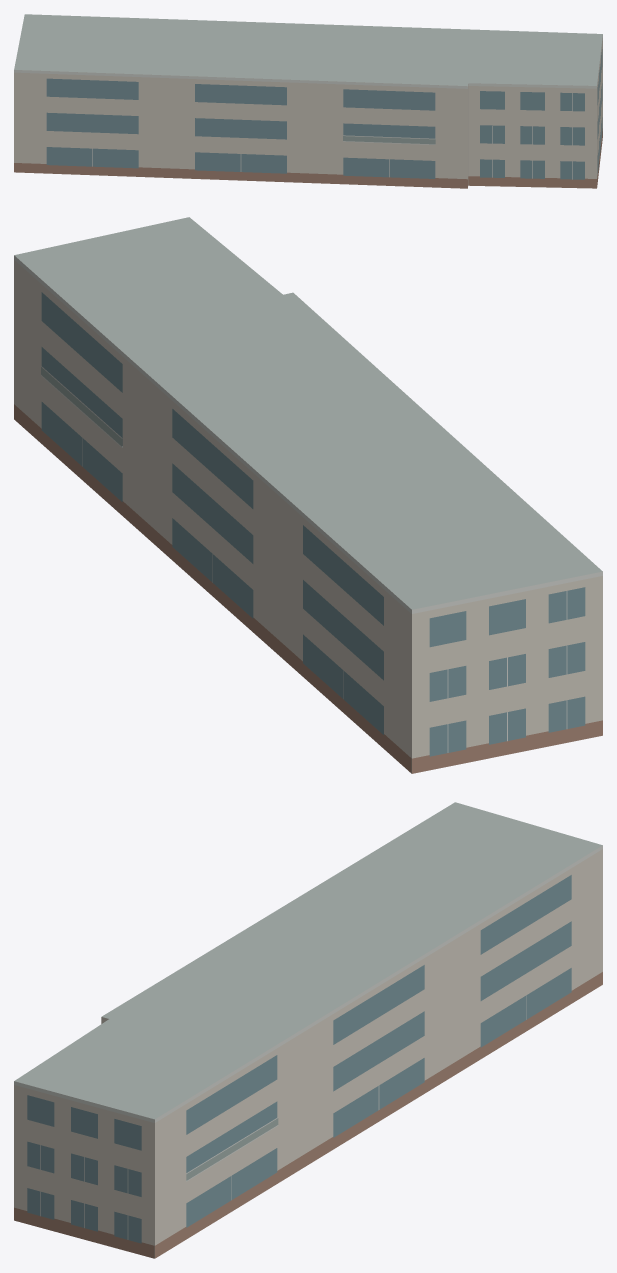
The model's file is survey-upis-32698003.glb.
3 views of the same model, one above another, from view 1: azimuth 30°, elevation 25°; view 2: azimuth 150°, elevation 25°; view 3: azimuth 270°, elevation 25° (orthographic). The views are drawn at different scales.
Visible parts, largest first — view 1: survey-upis-32698003.tmp; view 2: survey-upis-32698003.tmp; view 3: survey-upis-32698003.tmp.
Part boxes in pixels (x1,y1,x2,y2): survey-upis-32698003.tmp: (14, 14, 602, 188); survey-upis-32698003.tmp: (14, 217, 602, 773); survey-upis-32698003.tmp: (14, 802, 602, 1258).
Size of the model in its own units: 44.68 by 9.15 by 35.04.
